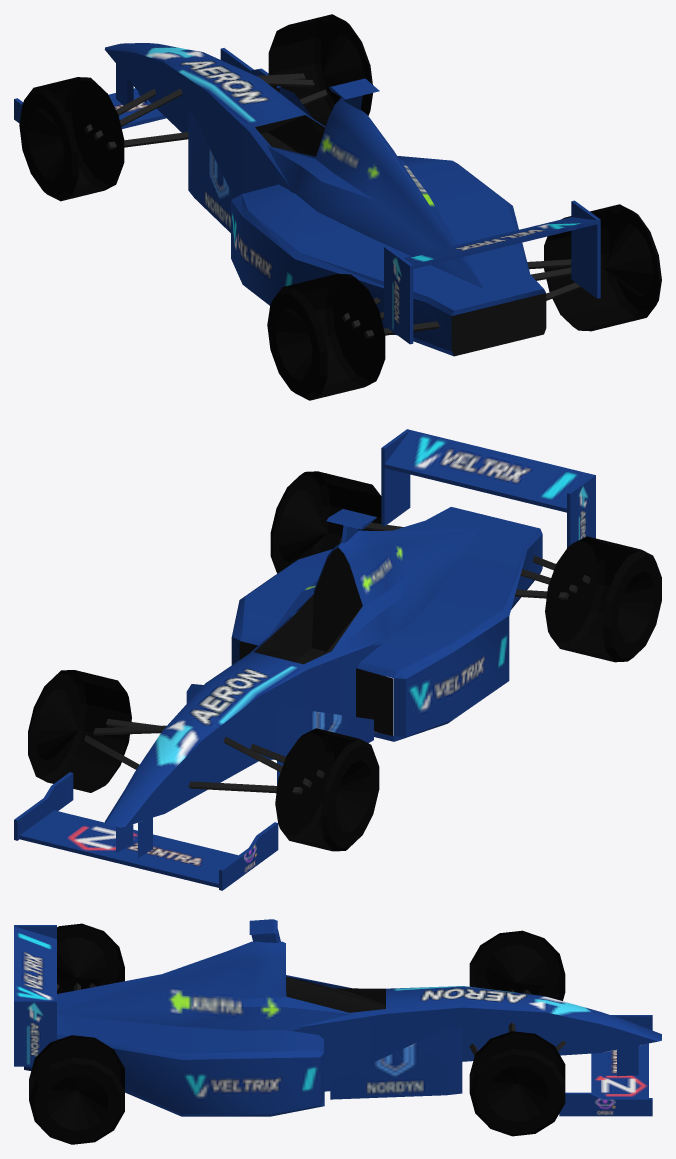
Rendered from f1_car_test.glb.
3 views of the same model, one above another, from view 1: azimuth 30°, elevation 25°; view 2: azimuth 150°, elevation 25°; view 3: azimuth 270°, elevation 25° (orthographic). The views are drawn at different scales.
Parts seen in each view (by area): view 1: single_mesh_object_3, single_mesh_object.002, single_mesh_object, WheelRL3, WheelRR3, WheelFR3, WheelRR1, WheelFR1, WheelRL2, single_mesh_object_4, WheelFL3, WheelFL2 (+3 smaller); view 2: single_mesh_object_3, single_mesh_object.002, single_mesh_object.001, single_mesh_object, WheelRR3, WheelFR3, WheelFL3, WheelRR1, WheelFL2, WheelFR1, WheelRL3, single_mesh_object_4 (+3 smaller); view 3: single_mesh_object_3, WheelFL3, WheelRL3, single_mesh_object.002, single_mesh_object.001, WheelFR3, WheelRR3, single_mesh_object, WheelRL1, WheelFL1.
Boxes of the visible parts, left/top/right/bottom form: single_mesh_object_3: left=104, top=43, right=545, bottom=356; single_mesh_object.002: left=384, top=200, right=600, bottom=344; single_mesh_object: left=255, top=115, right=546, bottom=356; WheelRL3: left=601, top=204, right=661, bottom=317; WheelRR3: left=267, top=287, right=327, bottom=400; WheelFR3: left=19, top=87, right=78, bottom=201; WheelRR1: left=325, top=273, right=385, bottom=387; WheelFR1: left=65, top=77, right=124, bottom=190; WheelRL2: left=546, top=204, right=646, bottom=331; single_mesh_object_4: left=84, top=73, right=581, bottom=338; WheelFL3: left=314, top=14, right=372, bottom=115; WheelFL2: left=270, top=14, right=331, bottom=126; single_mesh_object_3: left=105, top=507, right=542, bottom=827; single_mesh_object.002: left=381, top=429, right=595, bottom=547; single_mesh_object.001: left=14, top=772, right=278, bottom=890; single_mesh_object: left=239, top=547, right=392, bottom=735; WheelRR3: left=602, top=549, right=661, bottom=662; WheelFR3: left=320, top=739, right=379, bottom=851; WheelFL3: left=28, top=670, right=86, bottom=782; WheelRR1: left=545, top=536, right=604, bottom=648; WheelFL2: left=47, top=670, right=130, bottom=792; WheelFR1: left=275, top=728, right=333, bottom=840; WheelRL3: left=270, top=471, right=330, bottom=573; single_mesh_object_4: left=84, top=522, right=590, bottom=794; single_mesh_object_3: left=24, top=919, right=661, bottom=1116; WheelFL3: left=469, top=1049, right=565, bottom=1136; WheelRL3: left=29, top=1057, right=124, bottom=1144; single_mesh_object.002: left=14, top=925, right=56, bottom=1066; single_mesh_object.001: left=559, top=1015, right=652, bottom=1116; WheelFR3: left=469, top=930, right=565, bottom=998; WheelRR3: left=57, top=923, right=124, bottom=993; single_mesh_object: left=286, top=976, right=385, bottom=1012; WheelRL1: left=29, top=1035, right=124, bottom=1089; WheelFL1: left=469, top=1031, right=565, bottom=1082.
Bounding box in the file's own units: 1.77 × 0.916 × 3.52.
Materials: 8 (3 with a texture image).
